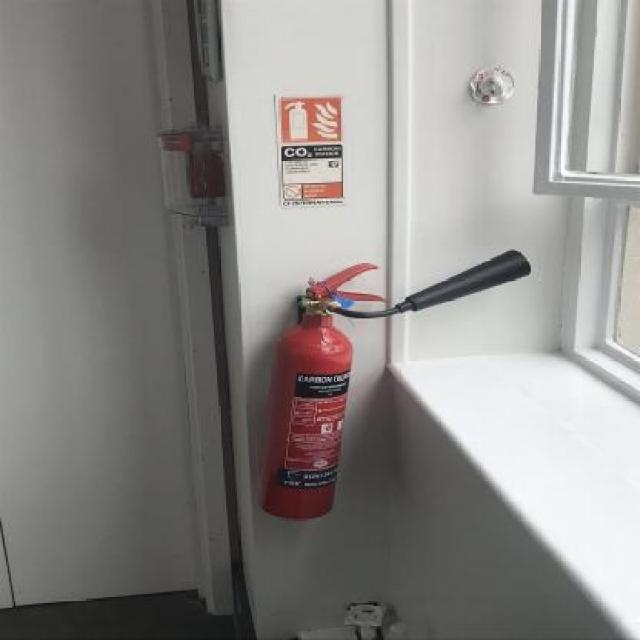fire extinguisher: (260, 250, 532, 518)
